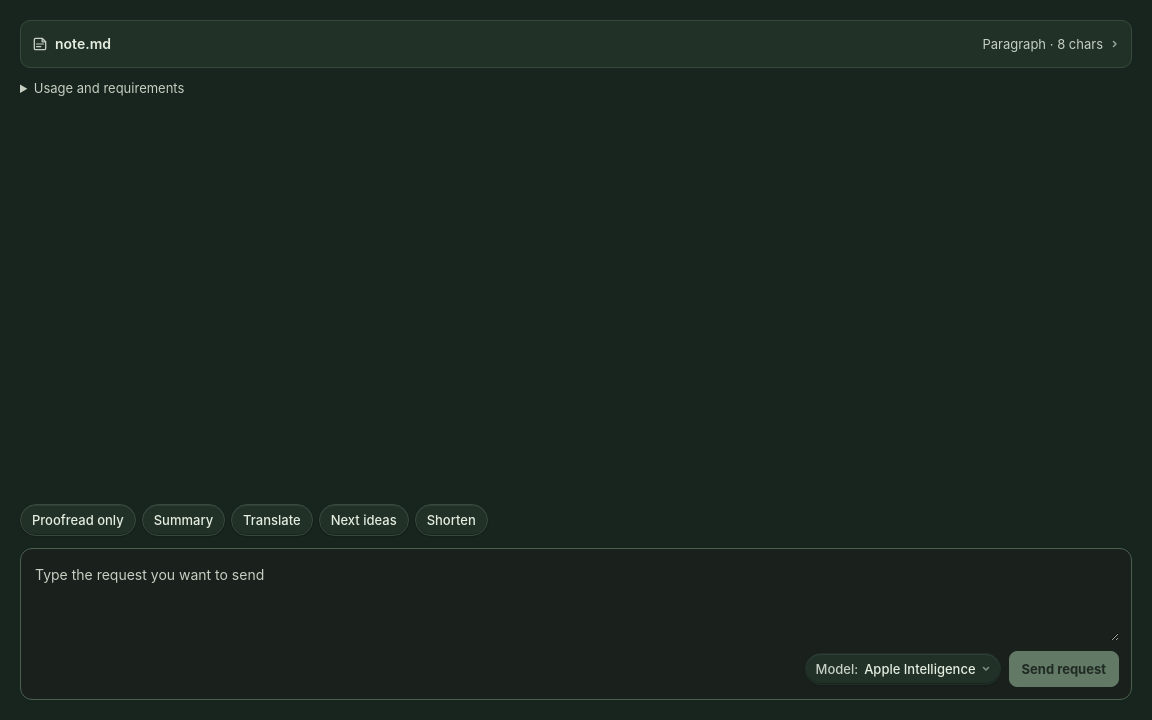
Test: AppleAssistWindowApp render › retains Apply outcomes across language changes: failed
The image size is (1152, 720).
Type "Please edit" into the text box at {"x": 576, "y": 601}, box [33, 561, 1119, 641]
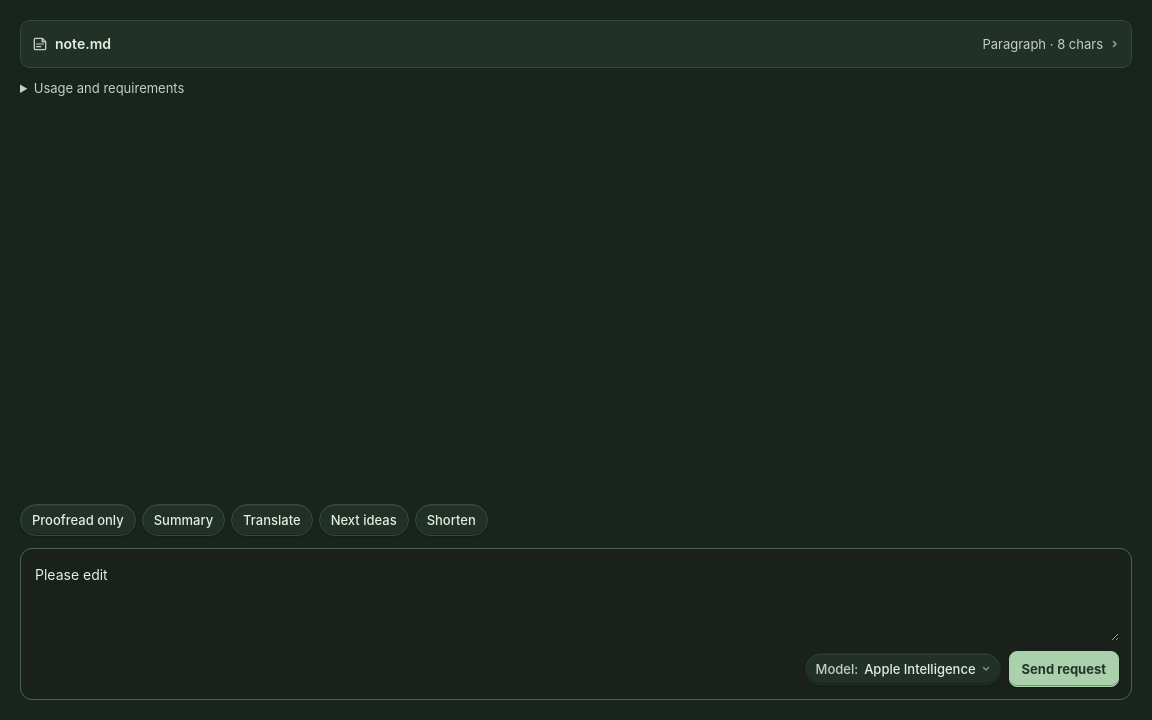
Click the button "Send request" at {"x": 1064, "y": 669}, box [1009, 651, 1119, 687]
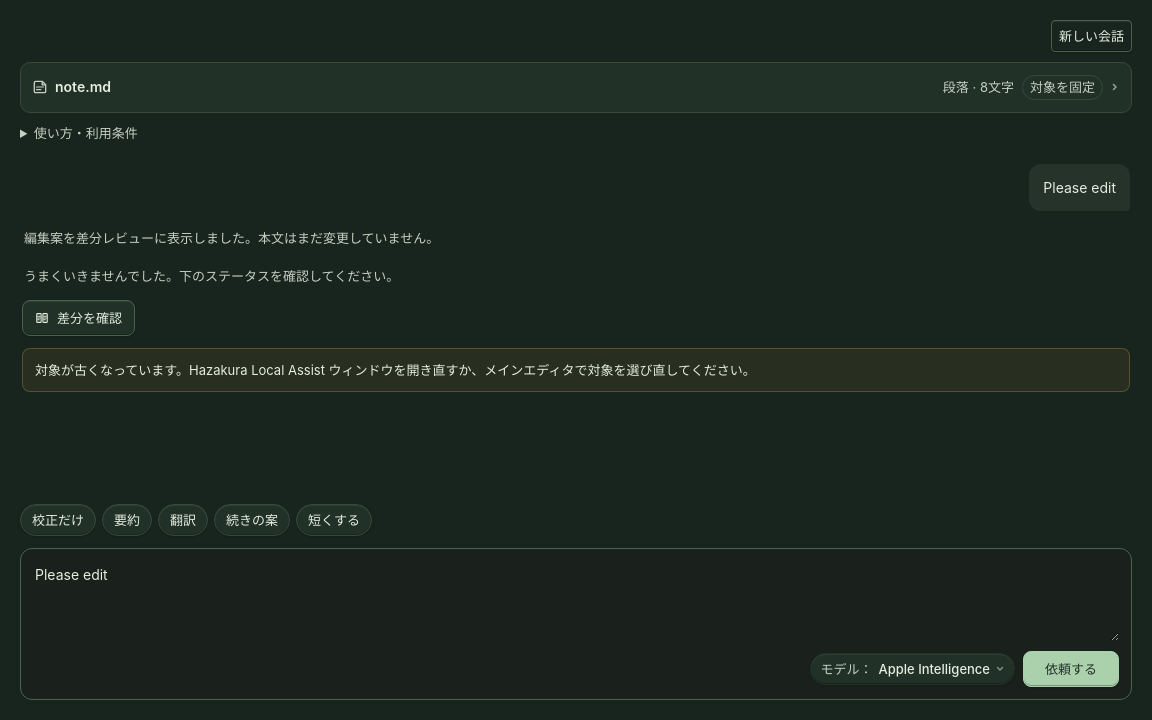
expect the message reads "対象が古くなっています。Hazakura Local Assist ウィンドウを開き直すか、メインエディタで対象を選び直してください。": met, box [35, 362, 756, 378]
expect the text "対象を固定" is shown: met, box [1022, 75, 1103, 100]
